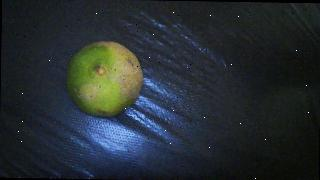DESECHO: (65, 40, 143, 116)
